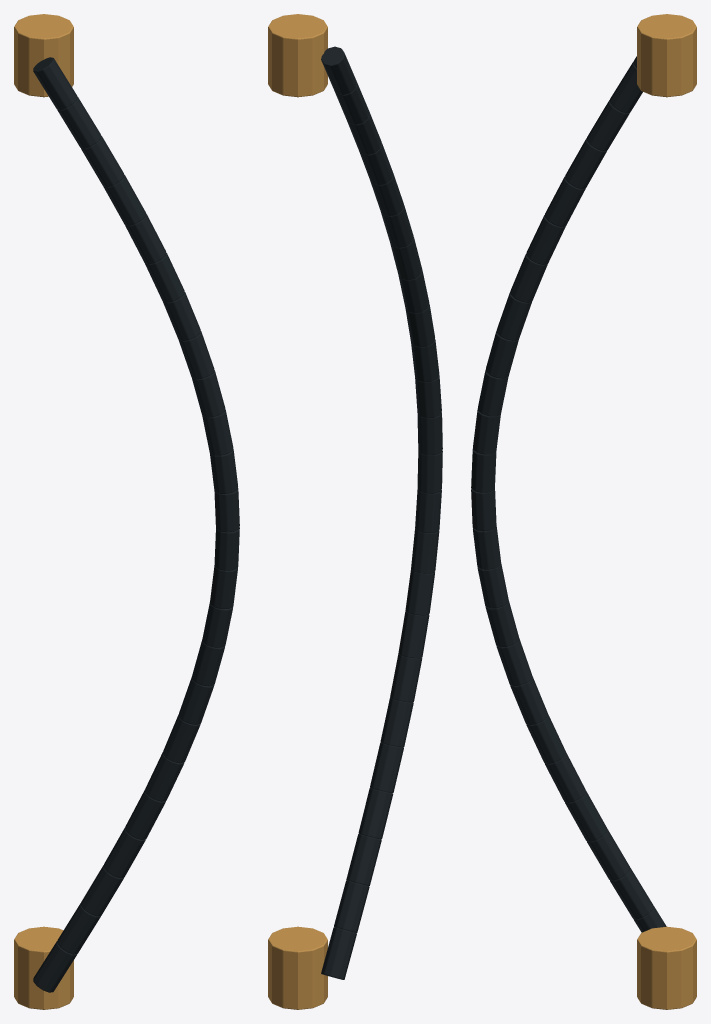
Rendered from SM_Lab_ReactorHarness__Cable_6_A.fbx.
The picture shows the model from 3 angles, left to right: view 1: azimuth 90°, elevation 25°; view 2: azimuth 150°, elevation 25°; view 3: azimuth 270°, elevation 25°; orthographic projection.
Visible parts, largest first — view 1: SM_Lab_ReactorHarness__Cable_6_A; view 2: SM_Lab_ReactorHarness__Cable_6_A; view 3: SM_Lab_ReactorHarness__Cable_6_A.
Boxes of the visible parts, box(x1,y1,x2,y2) form: SM_Lab_ReactorHarness__Cable_6_A: box(14, 14, 239, 1009); SM_Lab_ReactorHarness__Cable_6_A: box(268, 14, 442, 1009); SM_Lab_ReactorHarness__Cable_6_A: box(471, 14, 696, 1009).
Bounding box in the file's own units: 19.31 × 48.87 × 232.
